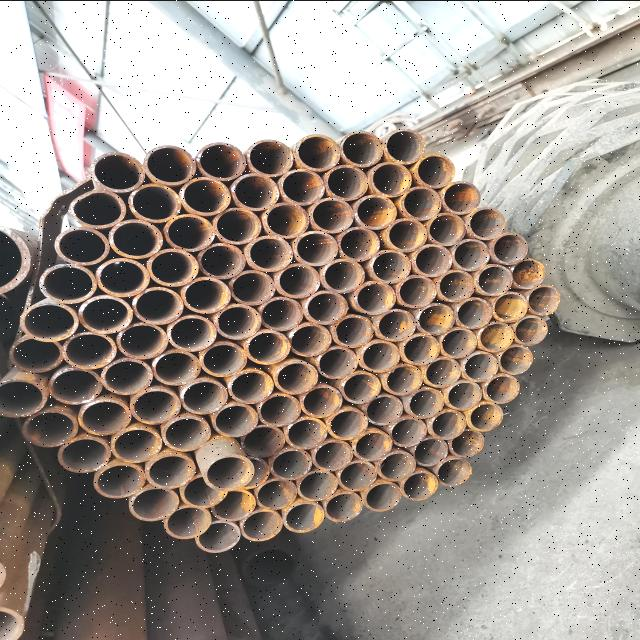pipe: (53, 224, 111, 268), (94, 254, 150, 298), (44, 259, 96, 305), (22, 406, 76, 450), (70, 188, 124, 231), (25, 297, 75, 343), (94, 149, 144, 193), (109, 218, 161, 260), (79, 294, 133, 334), (150, 246, 201, 288), (12, 330, 62, 372), (147, 146, 198, 187), (60, 434, 112, 474), (162, 412, 214, 452), (63, 330, 114, 370), (234, 170, 282, 212), (166, 212, 216, 252), (242, 233, 296, 270), (181, 177, 232, 216), (134, 287, 186, 325), (52, 367, 102, 406), (168, 312, 218, 351), (94, 459, 144, 498), (2, 376, 48, 418), (250, 137, 296, 179), (206, 451, 253, 492), (130, 182, 178, 222), (104, 356, 152, 396), (132, 388, 180, 428), (266, 200, 311, 242), (180, 473, 230, 510), (382, 124, 428, 164), (198, 142, 246, 180), (120, 322, 168, 360), (382, 214, 430, 252), (145, 454, 197, 489), (200, 337, 244, 378), (130, 485, 178, 522), (340, 128, 382, 170), (182, 376, 226, 416), (296, 228, 340, 268), (214, 484, 258, 524), (314, 342, 358, 382), (183, 276, 229, 314), (338, 224, 384, 262), (402, 182, 442, 225), (369, 158, 414, 196), (475, 314, 517, 354), (282, 168, 326, 206), (324, 162, 368, 200), (356, 193, 400, 231), (277, 262, 322, 299), (200, 243, 246, 279), (215, 304, 261, 340), (412, 152, 458, 188), (284, 416, 330, 452), (302, 381, 344, 420), (216, 207, 260, 244), (466, 200, 506, 240), (333, 310, 372, 351), (296, 133, 338, 171), (230, 268, 272, 306), (154, 351, 198, 387), (245, 330, 289, 366), (324, 407, 369, 442), (82, 399, 128, 433), (196, 520, 242, 554), (270, 445, 310, 484), (312, 195, 354, 232), (168, 504, 210, 541), (274, 358, 318, 393), (118, 424, 158, 462), (231, 369, 271, 407), (284, 496, 324, 534), (508, 254, 548, 292), (354, 280, 396, 316), (240, 507, 282, 543), (374, 306, 416, 342), (258, 479, 302, 513), (292, 322, 332, 359), (440, 179, 484, 212), (456, 293, 494, 331), (260, 295, 300, 331), (247, 424, 287, 460), (400, 274, 440, 310), (452, 238, 492, 274), (406, 384, 446, 420), (213, 402, 255, 436), (373, 249, 411, 285), (344, 371, 382, 407), (308, 288, 348, 322), (352, 428, 392, 462), (386, 360, 422, 397), (492, 229, 528, 266), (366, 392, 404, 427), (412, 243, 452, 276), (376, 449, 416, 482), (466, 399, 506, 432), (428, 212, 464, 248), (302, 466, 338, 502), (326, 489, 362, 525), (402, 466, 438, 502), (261, 392, 299, 426), (314, 439, 352, 473), (440, 322, 474, 359), (461, 349, 498, 383), (435, 455, 473, 488), (484, 371, 524, 402), (326, 257, 362, 291), (438, 268, 472, 304), (478, 261, 512, 297), (446, 377, 482, 411), (364, 340, 402, 372), (390, 416, 428, 448), (430, 408, 468, 439), (420, 302, 454, 336), (492, 290, 526, 324), (515, 312, 550, 345), (424, 356, 460, 388), (364, 480, 400, 512), (498, 344, 534, 376), (414, 436, 449, 468), (341, 462, 377, 492), (450, 428, 488, 456), (403, 332, 438, 362), (528, 284, 558, 316), (238, 459, 268, 490)
